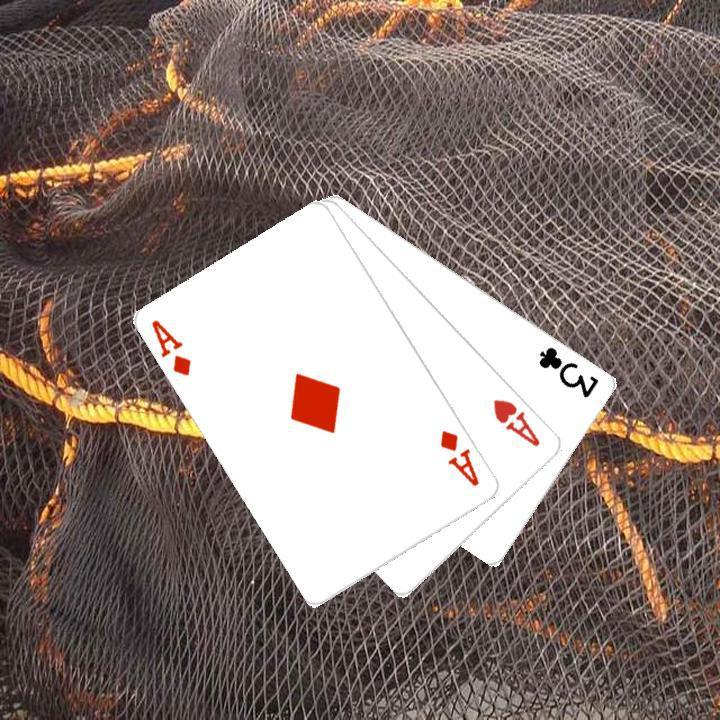3: (534, 342, 602, 400)
A: (489, 394, 543, 449), (147, 315, 194, 378), (436, 426, 482, 489)
